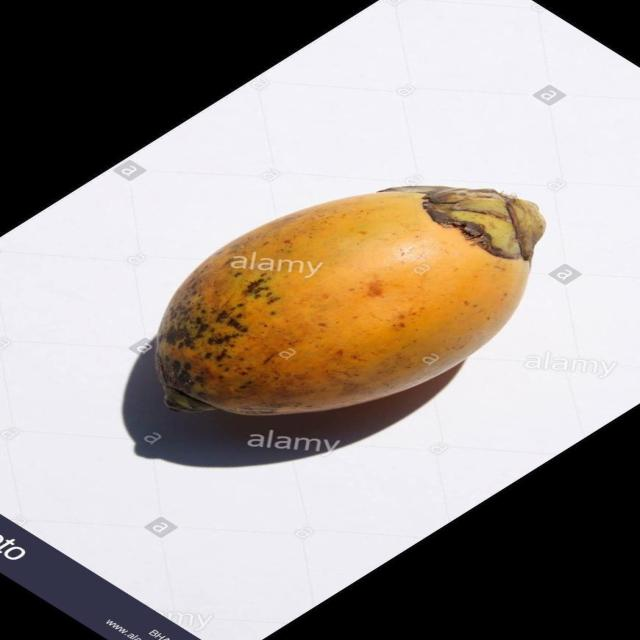good: (153, 186, 546, 419)
